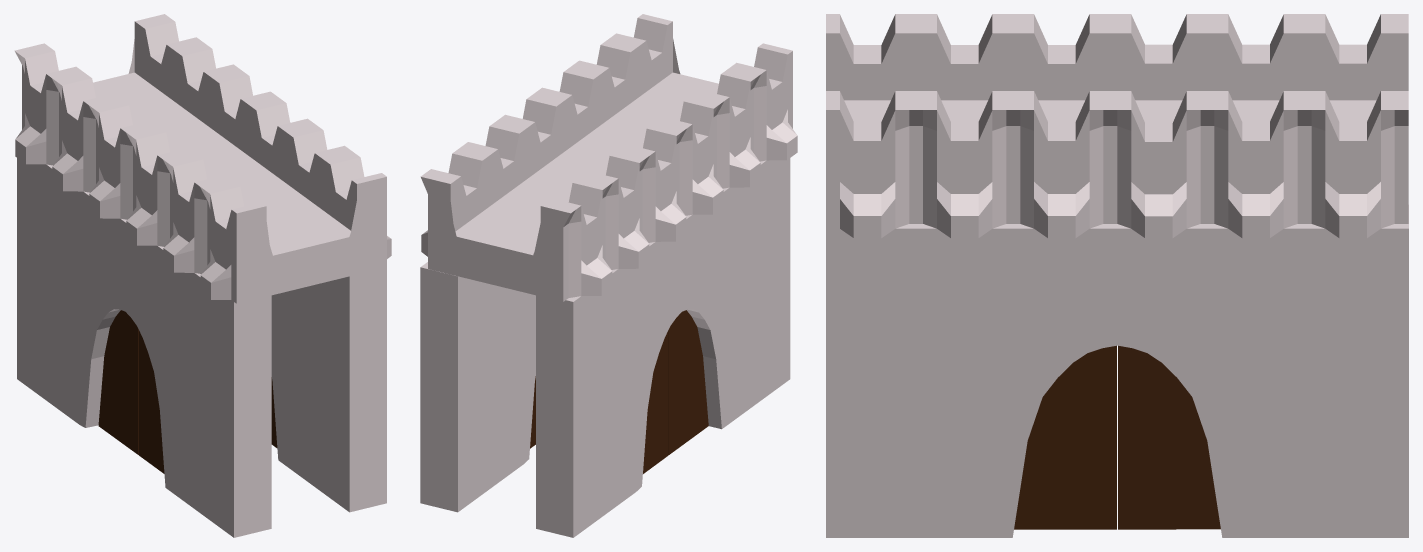
File: wooden_gate.glb
3 views of the same model, side by side, from view 1: azimuth 30°, elevation 25°; view 2: azimuth 150°, elevation 25°; view 3: azimuth 270°, elevation 25° (orthographic). The views are drawn at different scales.
Visible parts, largest first — view 1: Cube.002, Cube, Cube.001, Cube.008, Cube.007; view 2: Cube.002, Cube, Cube.001, Cube.007, Cube.008; view 3: Cube.001, Cube.002, Cube.010, Cube.009.
Boxes of the visible parts, x1,y1,x2,y2 form: Cube.002: (14, 14, 391, 303); Cube: (17, 158, 271, 537); Cube.001: (271, 267, 386, 512); Cube.008: (98, 310, 138, 454); Cube.007: (139, 330, 164, 473); Cube.002: (420, 14, 797, 301); Cube: (536, 158, 790, 537); Cube.001: (420, 262, 535, 512); Cube.007: (668, 310, 708, 454); Cube.008: (643, 330, 668, 473); Cube.001: (826, 205, 1408, 537); Cube.002: (826, 14, 1408, 238); Cube.010: (1014, 345, 1116, 529); Cube.009: (1118, 345, 1220, 529).
Size of the model in its own units: 9.6 by 16.6 by 20.5.
